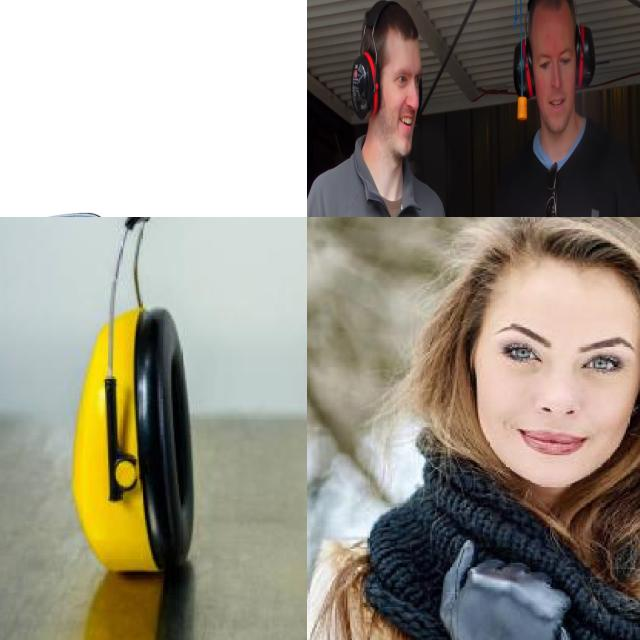Ear-protection: (82, 217, 307, 580), (350, 52, 380, 127), (515, 41, 537, 108), (574, 26, 595, 87)
No_Glasses: (487, 320, 639, 389)
face_nomask: (471, 284, 629, 486)
hand_glove: (439, 537, 572, 640)
head_nohelmet: (430, 217, 640, 309)
person: (307, 217, 640, 640), (468, 0, 640, 217), (307, 0, 459, 217)
